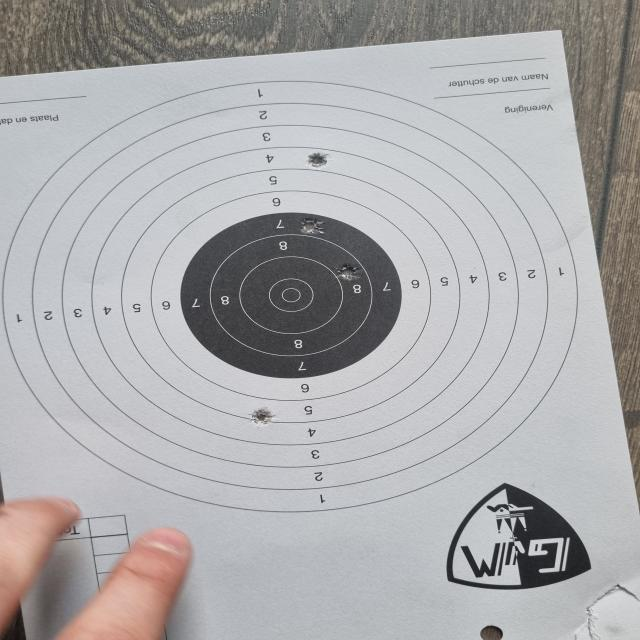5: (305, 152, 329, 168)
6: (246, 407, 276, 428)
8: (299, 216, 325, 236)
9: (333, 262, 360, 282)
Black Contour: (181, 212, 402, 380)
Target: (1, 80, 578, 514)
